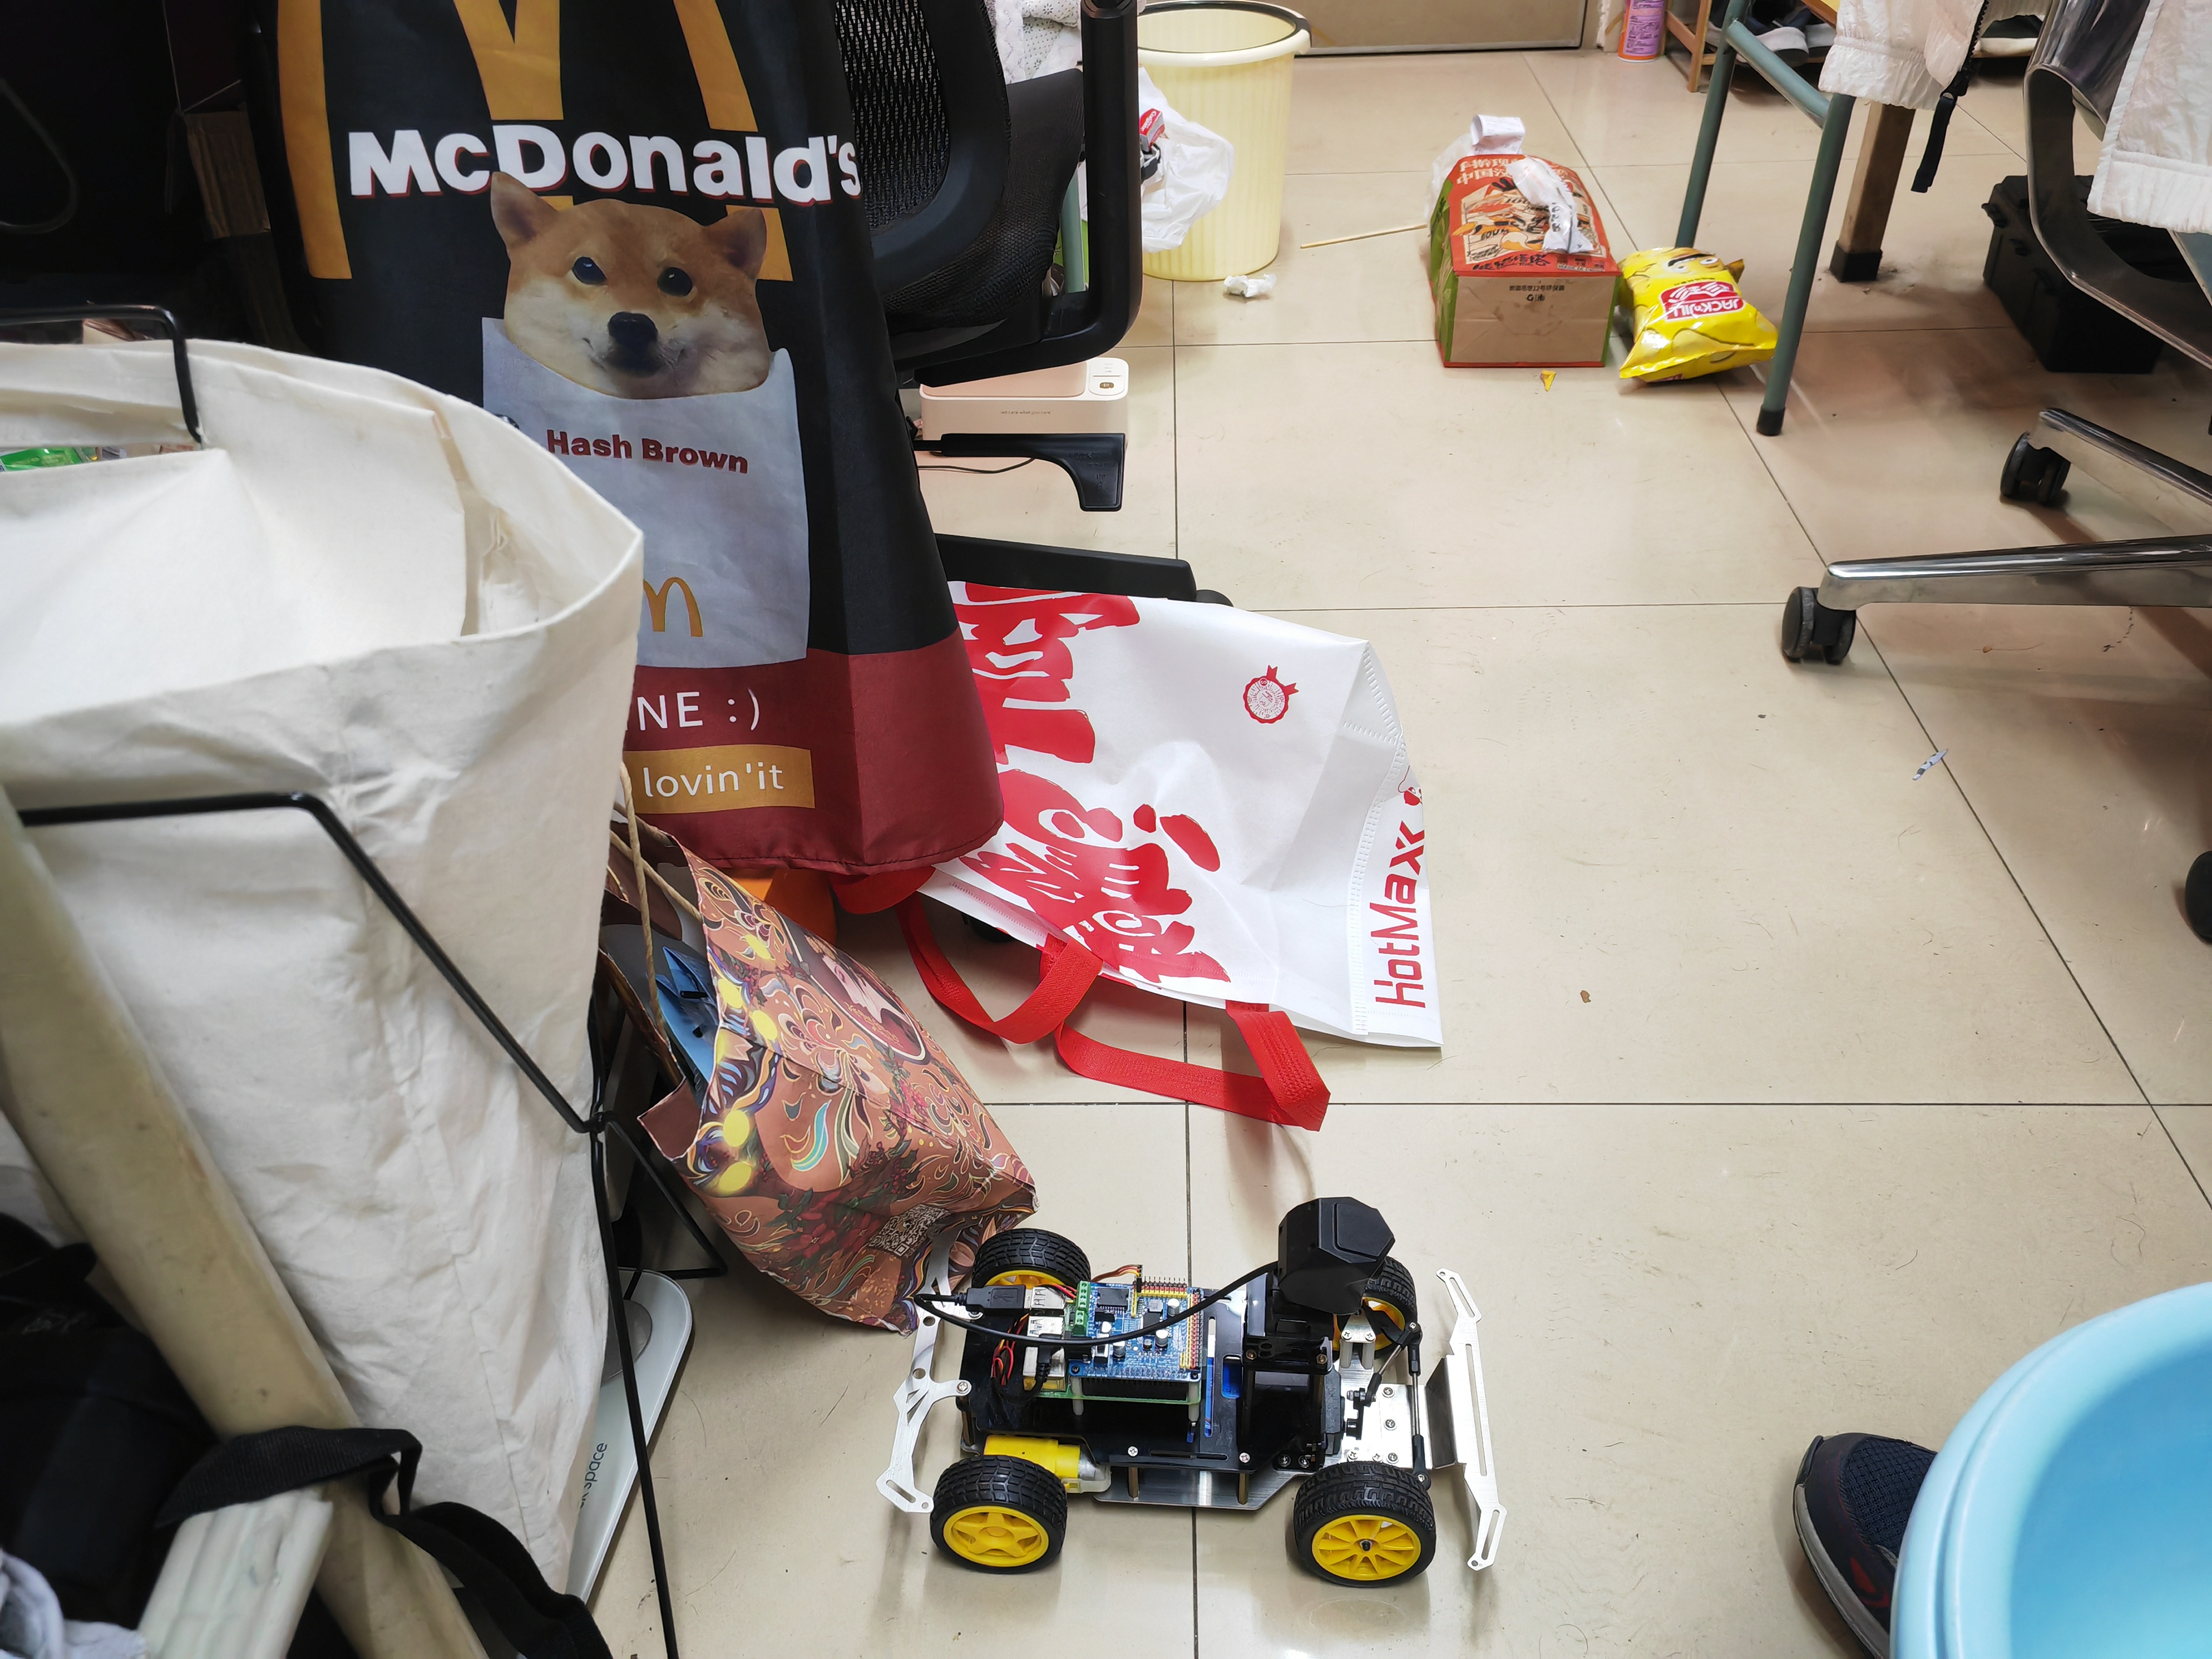car: (857, 1194, 1534, 1603)
